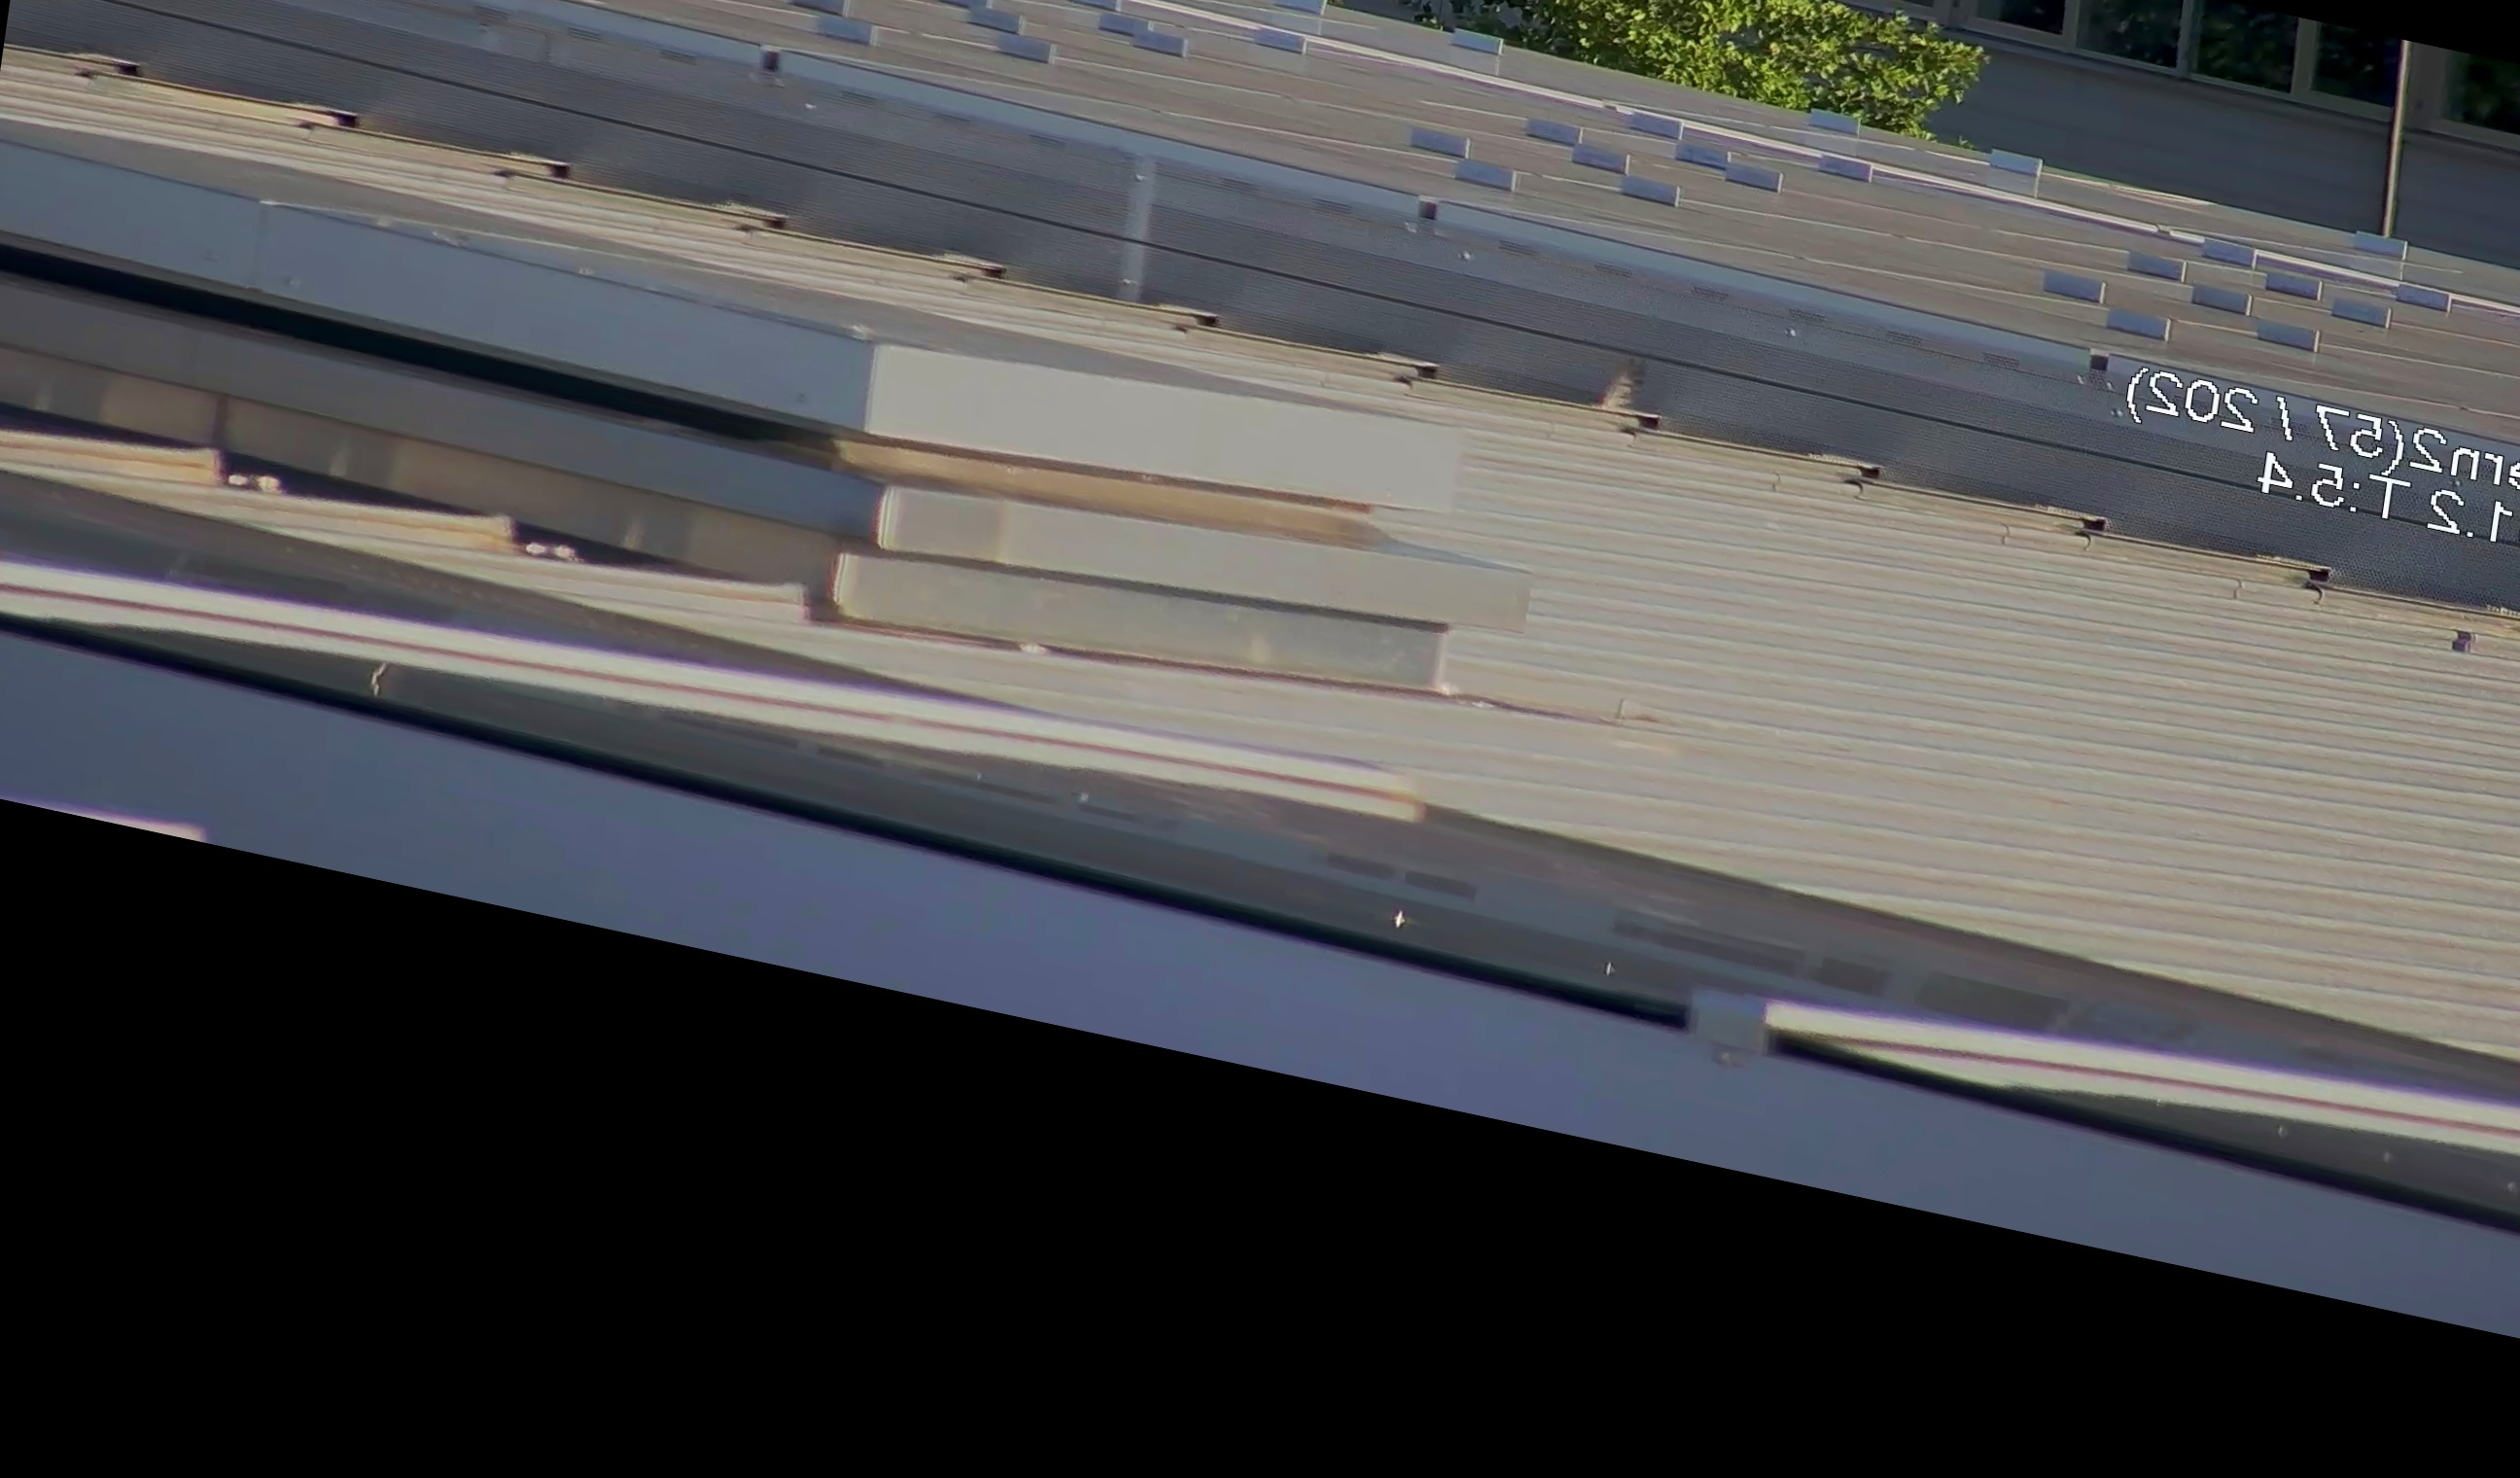Other: (1595, 341, 1679, 443)
